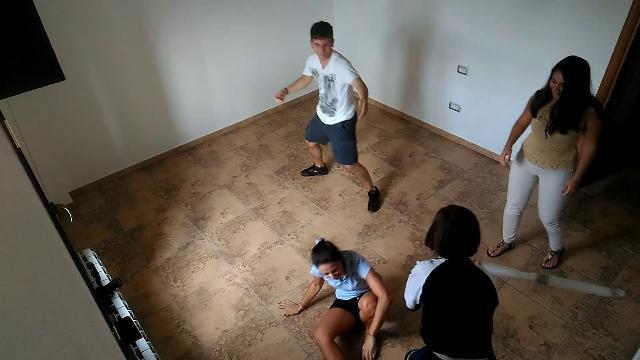non-violence: (481, 51, 607, 263), (273, 19, 382, 214), (280, 234, 394, 360)
violence: (400, 202, 628, 360)
